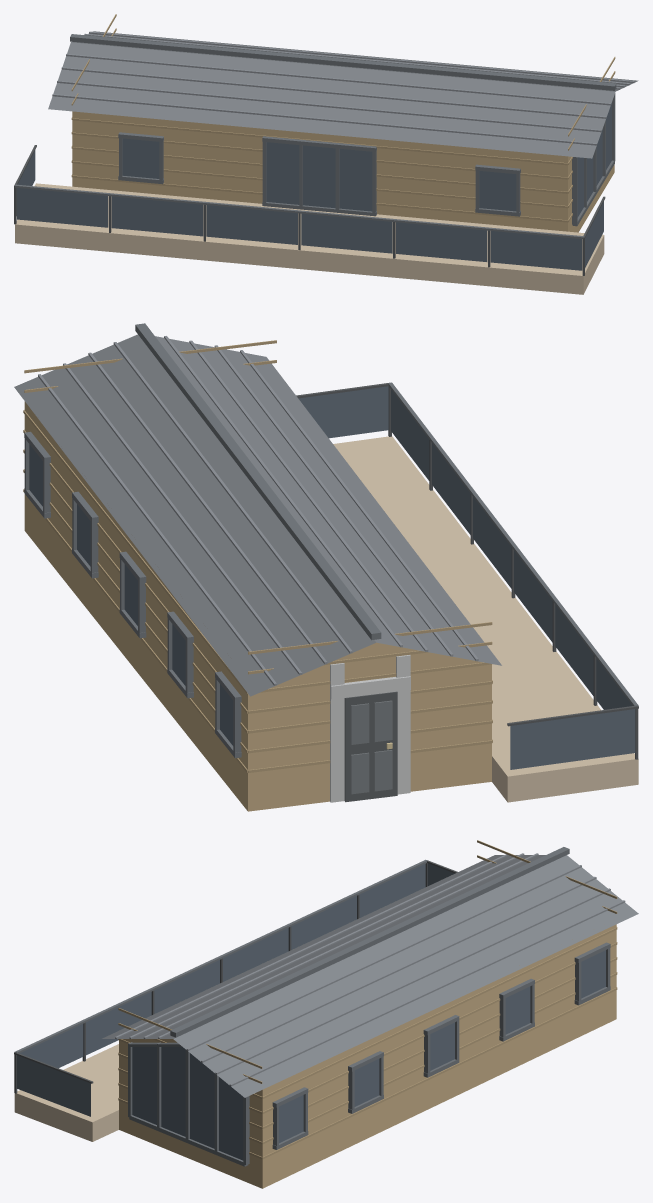
The picture shows the model from 3 angles, top to bottom: view 1: azimuth 30°, elevation 25°; view 2: azimuth 150°, elevation 25°; view 3: azimuth 270°, elevation 25°; orthographic projection. The views are drawn at different scales.
Parts seen in each view (by area): view 1: slate, door_wood, larch, slate_dk, slate_lt, door_wood_p, window_glass_002, window_glass_006, window_glass_004, window_glass_003, window_glass_001, window_glass_005 (+8 smaller); view 2: slate, door_wood, larch, slate_dk, slate_lt, door_wood_p, window_glass_007, stone_band, window_glass_008, door_dark_p, door_dark, pipe (+6 smaller); view 3: slate, door_wood, slate_dk, slate_lt, window_glass_014, door_wood_p, larch, window_glass_008, window_glass_005, window_glass_001, window_glass_004, window_glass_003 (+8 smaller).
Boxes of the visible parts, box(x1,y1,x2,y2) form: slate: box(48, 31, 638, 158); door_wood: box(72, 111, 614, 232); larch: box(15, 183, 604, 294); slate_dk: box(15, 34, 616, 238); slate_lt: box(52, 31, 634, 145); door_wood_p: box(71, 14, 615, 222); window_glass_002: box(111, 196, 203, 236); window_glass_006: box(490, 231, 582, 270); window_glass_004: box(301, 213, 392, 253); window_glass_003: box(206, 205, 297, 244); window_glass_001: box(17, 188, 108, 227); window_glass_005: box(396, 222, 487, 261); slate: box(14, 334, 501, 696); door_wood: box(24, 401, 491, 811); larch: box(333, 436, 638, 802); slate_dk: box(24, 323, 638, 758); slate_lt: box(38, 336, 478, 685); door_wood_p: box(23, 340, 492, 772); window_glass_007: box(510, 709, 635, 769); stone_band: box(330, 655, 410, 802); window_glass_008: box(298, 386, 388, 438); door_dark_p: box(351, 700, 392, 794); door_dark: box(344, 691, 397, 802); pipe: box(296, 382, 638, 759); slate: box(102, 855, 638, 1097); door_wood: box(119, 924, 616, 1188); slate_dk: box(15, 847, 610, 1166); slate_lt: box(115, 853, 625, 1086); window_glass_014: box(132, 1047, 243, 1160); door_wood_p: box(118, 840, 617, 1159); larch: box(14, 1044, 118, 1141); window_glass_008: box(16, 1055, 90, 1116); window_glass_005: box(86, 992, 151, 1055); window_glass_001: box(359, 864, 425, 917); window_glass_004: box(154, 960, 219, 1013); window_glass_003: box(223, 928, 288, 981).
Bounding box in the file's own units: 15 × 3.42 × 14.3.
